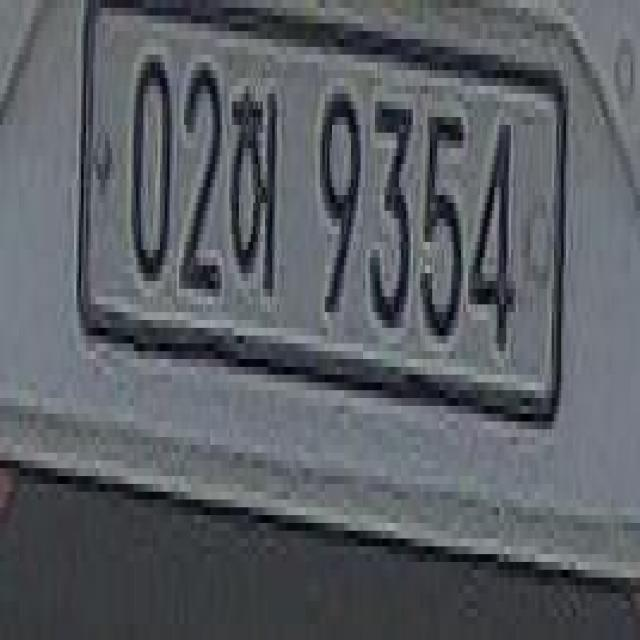illegal_plate: (79, 11, 570, 426)
